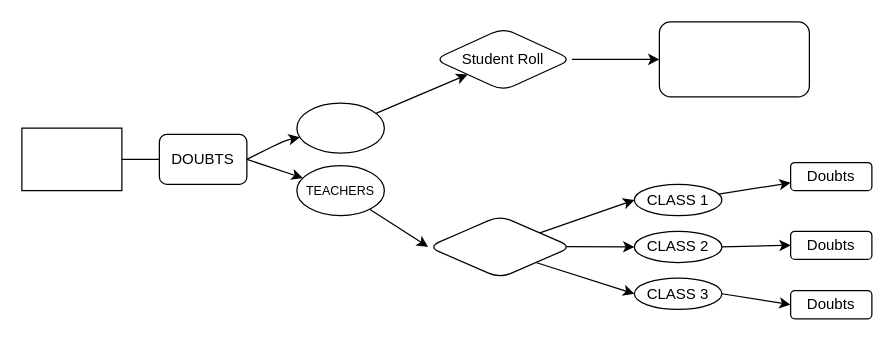
This 894x341 diagram has some shape labels left out. Each missing label, with the centre of its shape:
ALL DOUBTS: (x=733, y=59)
LOCALHOST: (x=71, y=159)
STUDENTS / create: (x=340, y=127)
Teacher ID: (x=499, y=246)
